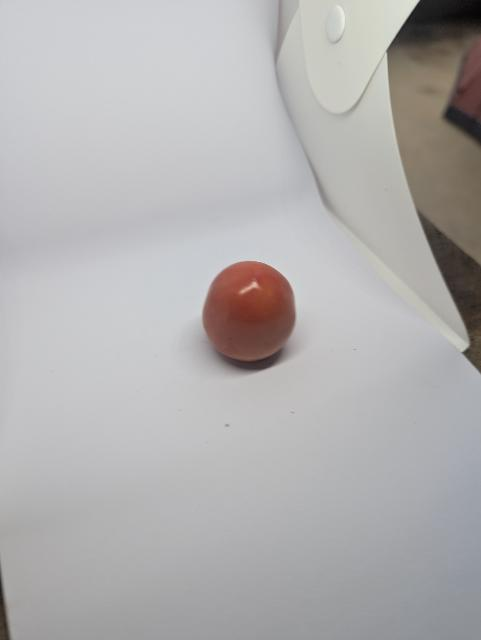red: (198, 253, 304, 362)
